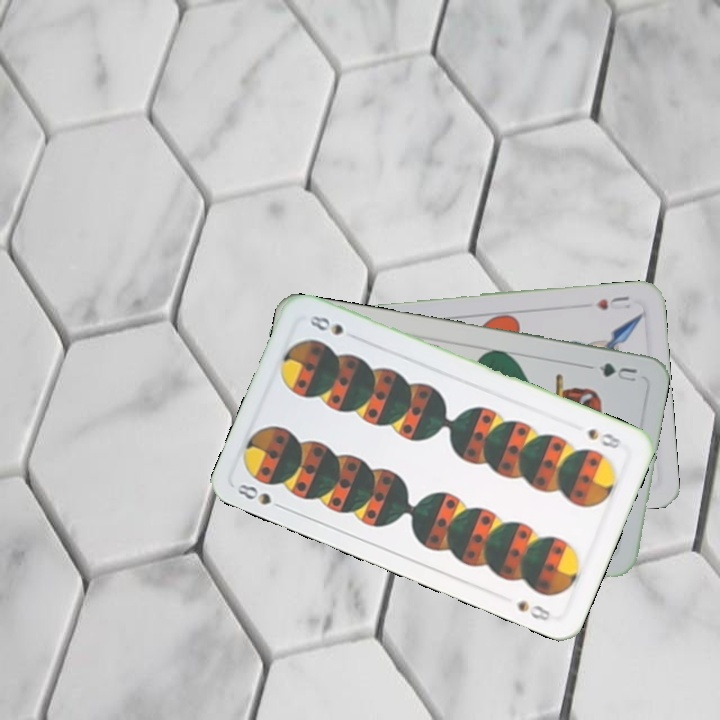GU: (585, 359, 639, 385)
HU: (592, 292, 633, 312)
S8: (233, 479, 289, 513), (583, 424, 624, 452)
